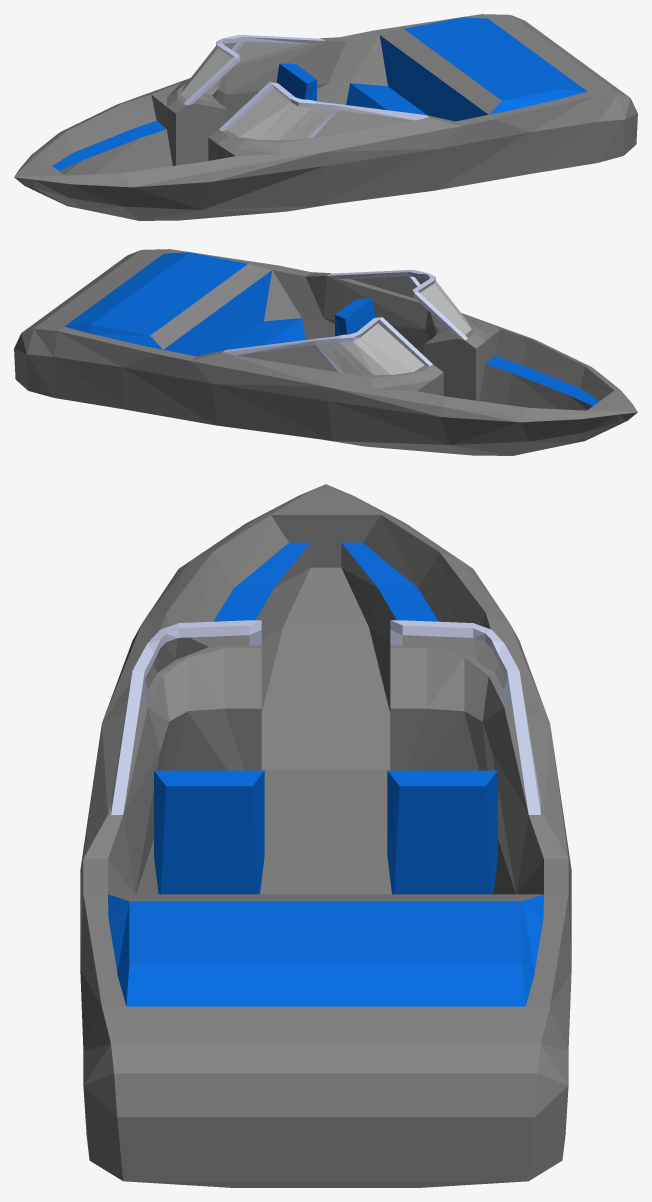
The model's file is gliser.fbx.
The picture shows the model from 3 angles, top to bottom: view 1: azimuth 30°, elevation 25°; view 2: azimuth 150°, elevation 25°; view 3: azimuth 270°, elevation 25°; orthographic projection. The views are drawn at different scales.
Visible parts, largest first — view 1: *MODEL_SPACE, WHITE PLASTIC, GLASS, CHROME; view 2: *MODEL_SPACE, WHITE PLASTIC, GLASS, CHROME; view 3: *MODEL_SPACE, WHITE PLASTIC, CHROME, GLASS.
Boxes of the visible parts, <box> form: *MODEL_SPACE: <box>14,14,637,220</box>; WHITE PLASTIC: <box>52,17,587,170</box>; GLASS: <box>180,41,414,140</box>; CHROME: <box>184,34,428,138</box>; *MODEL_SPACE: <box>14,249,637,455</box>; WHITE PLASTIC: <box>64,252,599,405</box>; GLASS: <box>237,276,471,375</box>; CHROME: <box>223,269,467,373</box>; *MODEL_SPACE: <box>80,484,571,1187</box>; WHITE PLASTIC: <box>108,542,543,1006</box>; CHROME: <box>111,620,540,814</box>; GLASS: <box>145,635,506,689</box>.
Bounding box in the file's own units: 228 × 56.73 × 84.84.
